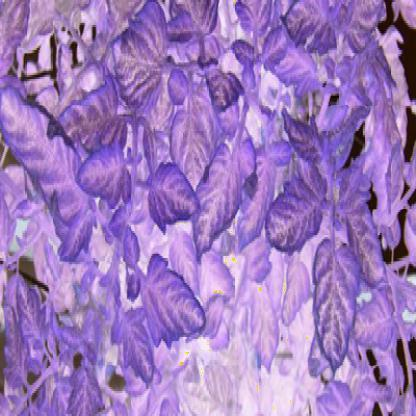Tomato leaf: (7, 73, 108, 237), (304, 238, 372, 378), (190, 131, 256, 268), (263, 154, 333, 258), (137, 258, 208, 354), (113, 8, 174, 116), (140, 158, 210, 239), (75, 139, 132, 210), (114, 292, 154, 380)
